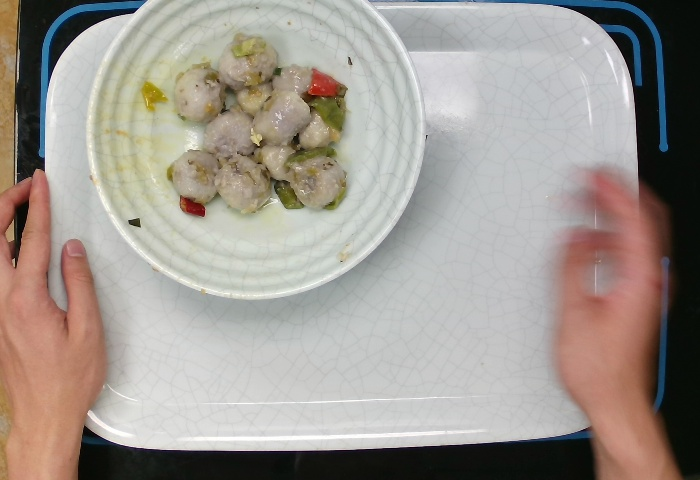JYsf-Da_Tang_Wan: (83, 1, 430, 304)
